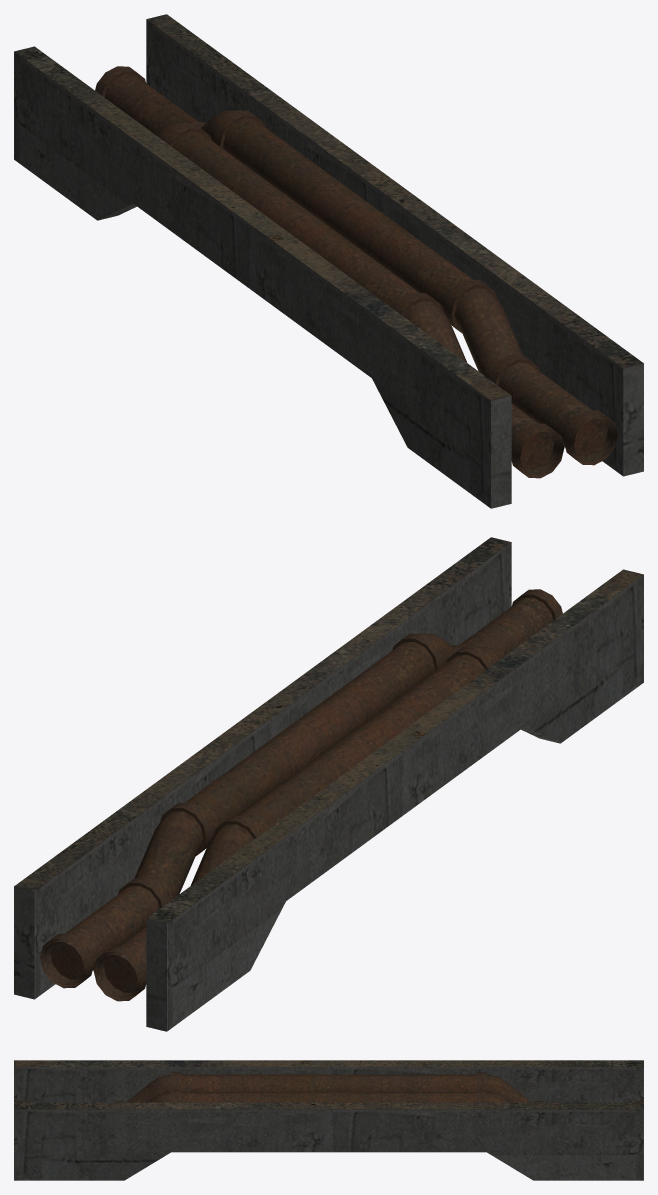
File: beam_rtx_2_pipes.dae
3 renders of one model, top to bottom at view 1: azimuth 30°, elevation 25°; view 2: azimuth 150°, elevation 25°; view 3: azimuth 270°, elevation 25°, orthographic. The views are drawn at different scales.
Visible parts, largest first — view 1: beam_rtx_2_pipes; view 2: beam_rtx_2_pipes; view 3: beam_rtx_2_pipes.
Part boxes in pixels (x1,y1,x2,y2): beam_rtx_2_pipes: (14,14,643,508); beam_rtx_2_pipes: (14,537,643,1031); beam_rtx_2_pipes: (14,1060,643,1180).
Bounding box in the file's own units: 0.74 × 4 × 0.515.
3 materials, 3 textured.
